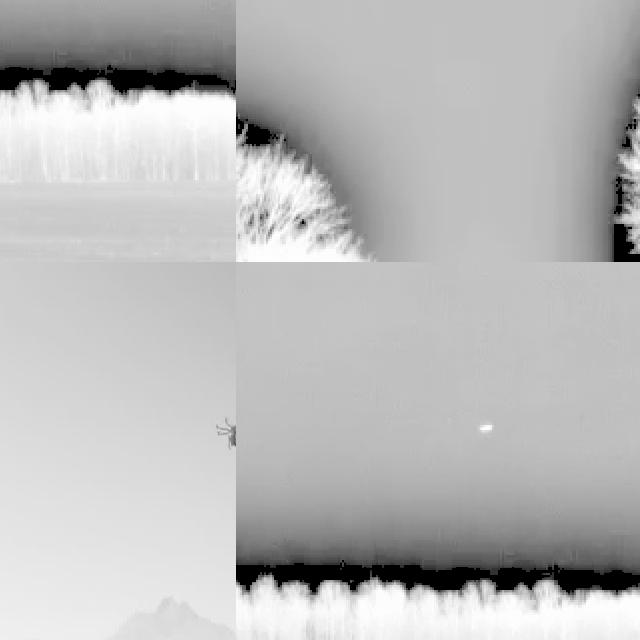1: (468, 420, 498, 440)
drone: (211, 408, 236, 460)
